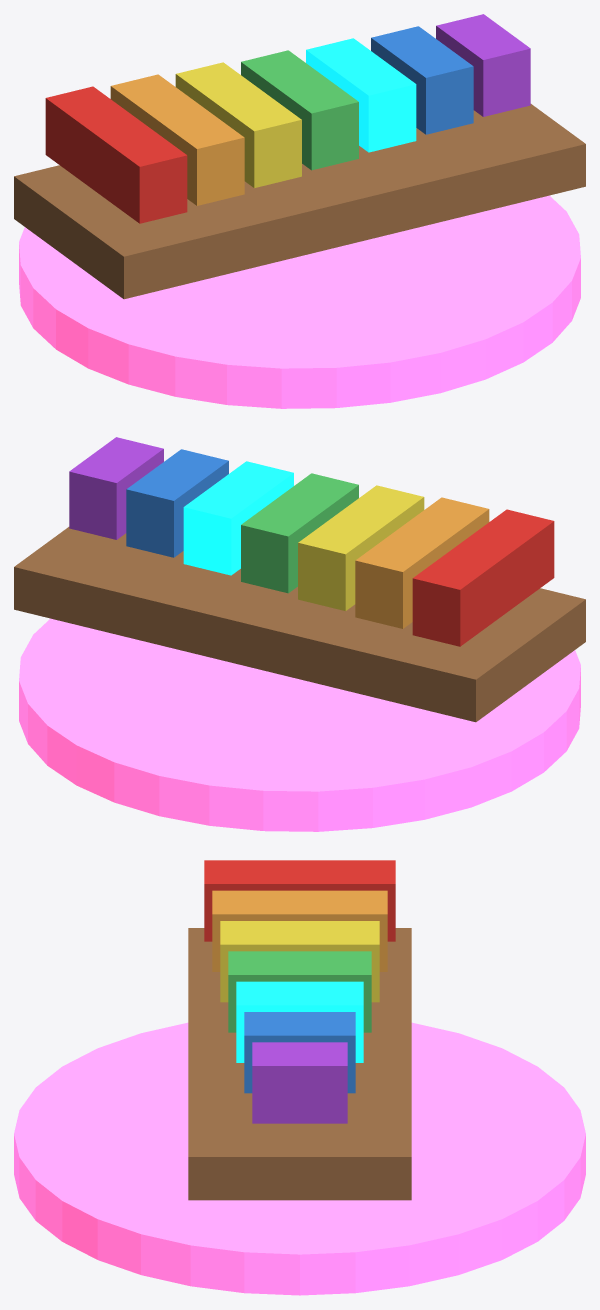
File: music_xylophone.glb
The picture shows the model from 3 angles, top to bottom: view 1: azimuth 30°, elevation 25°; view 2: azimuth 150°, elevation 25°; view 3: azimuth 270°, elevation 25°; orthographic projection.
Visible parts, largest first — view 1: 07_10_Popular_Music_Xylophone_ROOT_base, 07_10_Popular_Music_Xylophone_part_01, 07_10_Popular_Music_Xylophone_part_02, 07_10_Popular_Music_Xylophone_part_03, 07_10_Popular_Music_Xylophone_part_04, 07_10_Popular_Music_Xylophone_part_05, 07_10_Popular_Music_Xylophone_part_06, 07_10_Popular_Music_Xylophone_part_07, 07_10_Popular_Music_Xylophone_part_08; view 2: 07_10_Popular_Music_Xylophone_ROOT_base, 07_10_Popular_Music_Xylophone_part_01, 07_10_Popular_Music_Xylophone_part_02, 07_10_Popular_Music_Xylophone_part_03, 07_10_Popular_Music_Xylophone_part_04, 07_10_Popular_Music_Xylophone_part_05, 07_10_Popular_Music_Xylophone_part_06, 07_10_Popular_Music_Xylophone_part_07, 07_10_Popular_Music_Xylophone_part_08; view 3: 07_10_Popular_Music_Xylophone_ROOT_base, 07_10_Popular_Music_Xylophone_part_01, 07_10_Popular_Music_Xylophone_part_08, 07_10_Popular_Music_Xylophone_part_02, 07_10_Popular_Music_Xylophone_part_03, 07_10_Popular_Music_Xylophone_part_04, 07_10_Popular_Music_Xylophone_part_05, 07_10_Popular_Music_Xylophone_part_06, 07_10_Popular_Music_Xylophone_part_07.
Boxes of the visible parts, <box> form: 07_10_Popular_Music_Xylophone_ROOT_base: <box>19,195,580,408</box>; 07_10_Popular_Music_Xylophone_part_01: <box>14,104,585,299</box>; 07_10_Popular_Music_Xylophone_part_02: <box>45,86,187,223</box>; 07_10_Popular_Music_Xylophone_part_03: <box>110,74,244,205</box>; 07_10_Popular_Music_Xylophone_part_04: <box>175,62,301,187</box>; 07_10_Popular_Music_Xylophone_part_05: <box>241,50,358,170</box>; 07_10_Popular_Music_Xylophone_part_06: <box>306,38,416,152</box>; 07_10_Popular_Music_Xylophone_part_07: <box>371,26,473,134</box>; 07_10_Popular_Music_Xylophone_part_08: <box>436,14,530,116</box>; 07_10_Popular_Music_Xylophone_ROOT_base: <box>19,618,580,831</box>; 07_10_Popular_Music_Xylophone_part_01: <box>14,527,585,722</box>; 07_10_Popular_Music_Xylophone_part_02: <box>412,509,554,646</box>; 07_10_Popular_Music_Xylophone_part_03: <box>355,497,489,628</box>; 07_10_Popular_Music_Xylophone_part_04: <box>298,485,424,610</box>; 07_10_Popular_Music_Xylophone_part_05: <box>241,473,358,593</box>; 07_10_Popular_Music_Xylophone_part_06: <box>183,461,293,575</box>; 07_10_Popular_Music_Xylophone_part_07: <box>126,449,228,557</box>; 07_10_Popular_Music_Xylophone_part_08: <box>69,437,163,539</box>; 07_10_Popular_Music_Xylophone_ROOT_base: <box>14,1022,585,1295</box>; 07_10_Popular_Music_Xylophone_part_01: <box>188,928,411,1200</box>; 07_10_Popular_Music_Xylophone_part_08: <box>252,1042,347,1123</box>; 07_10_Popular_Music_Xylophone_part_02: <box>204,860,395,941</box>; 07_10_Popular_Music_Xylophone_part_03: <box>212,890,387,971</box>; 07_10_Popular_Music_Xylophone_part_04: <box>220,921,379,1002</box>; 07_10_Popular_Music_Xylophone_part_05: <box>228,951,371,1032</box>; 07_10_Popular_Music_Xylophone_part_06: <box>236,981,363,1062</box>; 07_10_Popular_Music_Xylophone_part_07: <box>244,1012,355,1093</box>.
Size of the model in its own units: 0.76 by 0.31 by 0.76.
